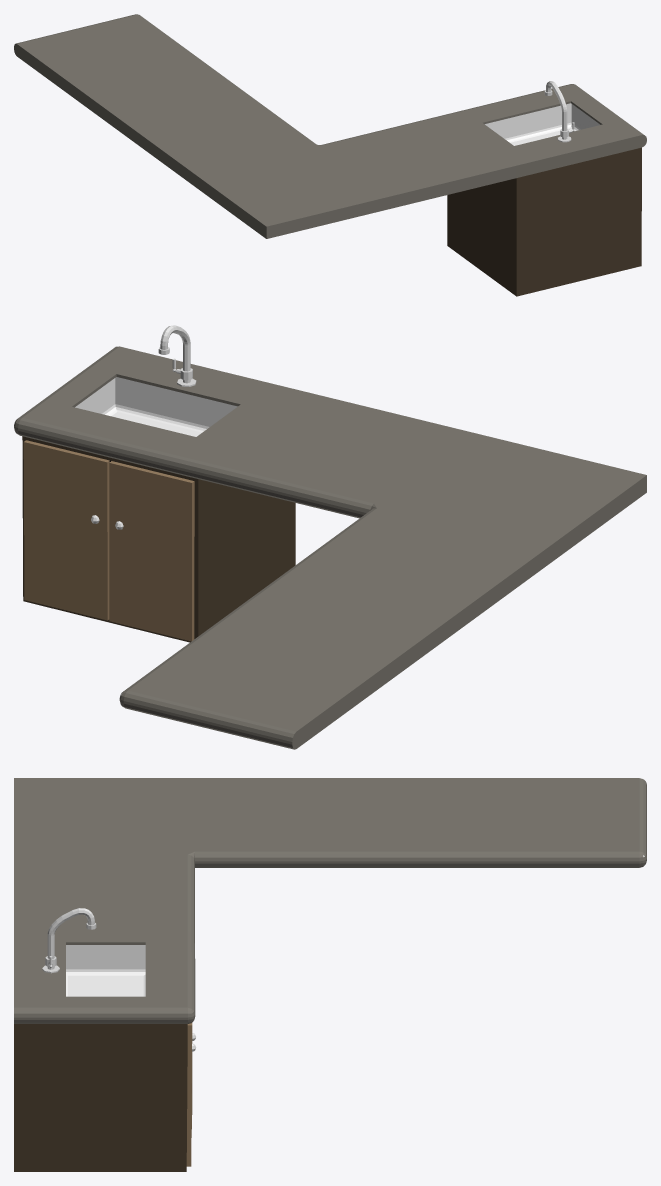
File: bancadaDeQuimica.fbx
3 renders of one model, top to bottom at view 1: azimuth 30°, elevation 25°; view 2: azimuth 150°, elevation 25°; view 3: azimuth 270°, elevation 25°, orthographic. The views are drawn at different scales.
Parts seen in each view (by area): view 1: Cube; view 2: Cube; view 3: Cube.
Boxes of the visible parts, <box> form: Cube: <box>14,14,646,296</box>; Cube: <box>14,325,646,749</box>; Cube: <box>14,778,646,1171</box>.
Size of the model in its own units: 608 by 275 by 699.
